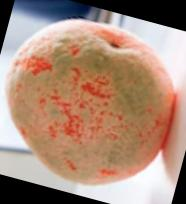Orange Rotten: (4, 19, 183, 187)
